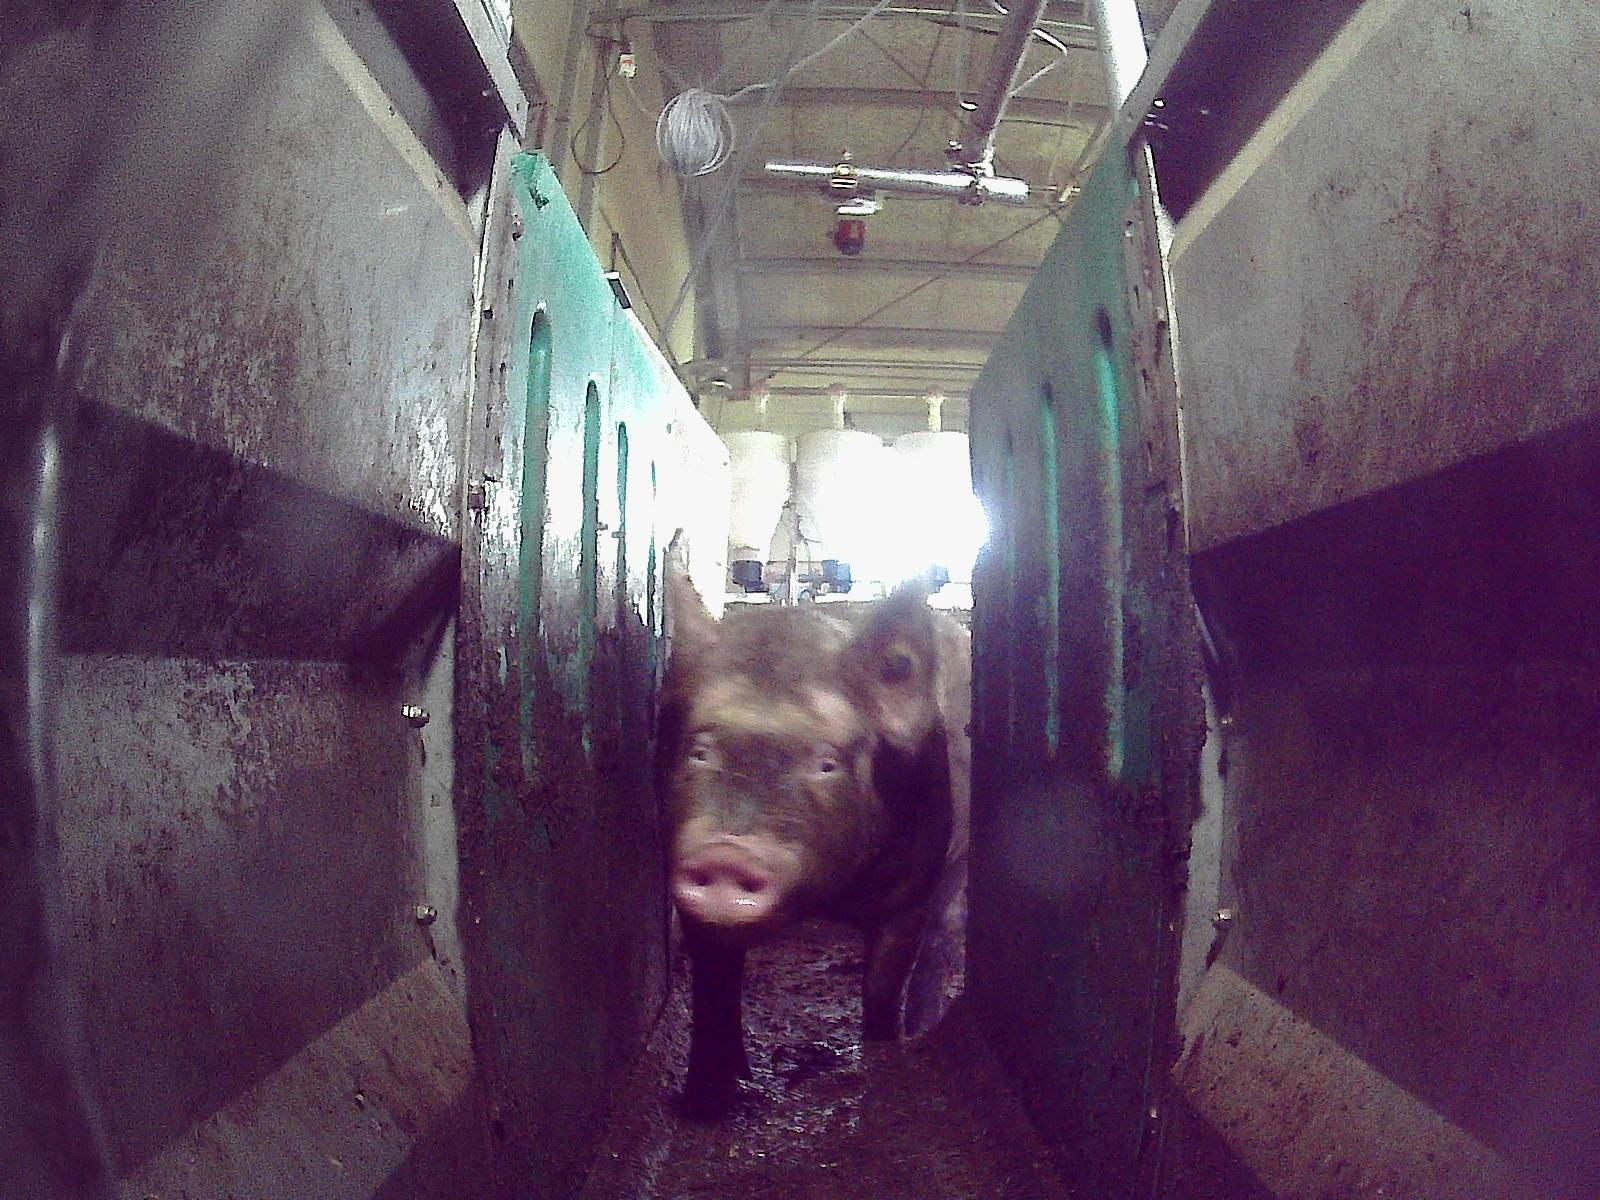Face: (646, 614, 870, 932)
